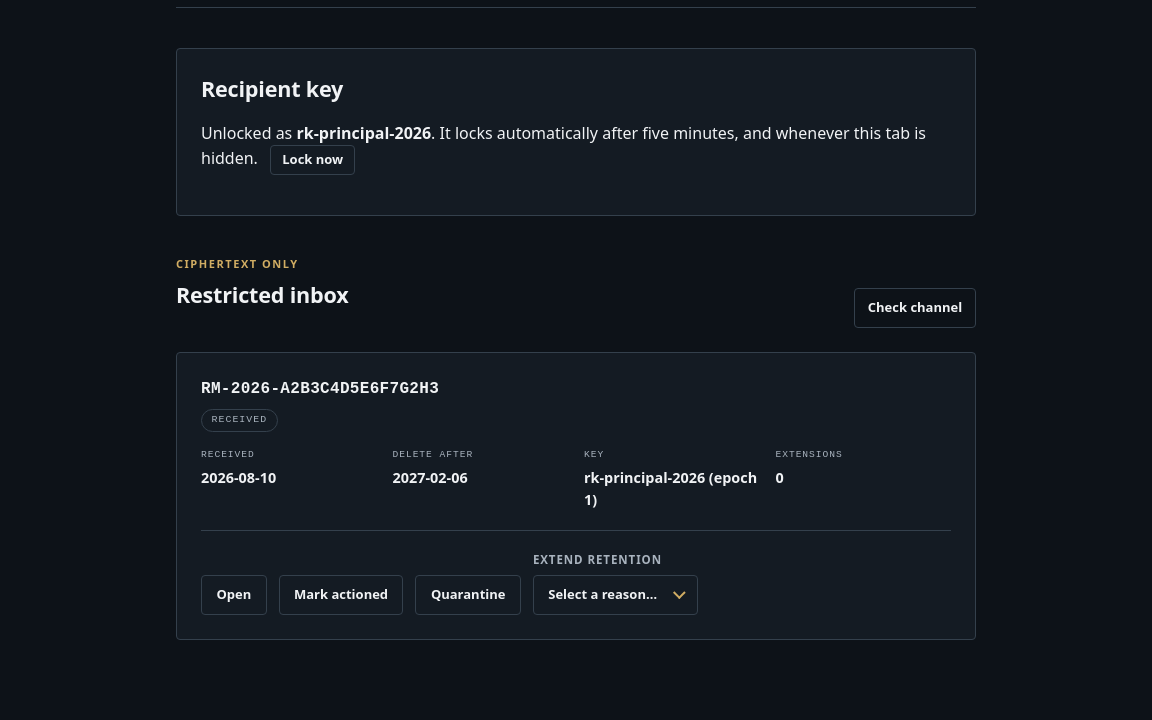
Test: RoomWorkspace › reveals plaintext only after unlocking, and never sends it back
(page scrolled)
Check: the heading "RM-2026-A2B3C4D5E6F7G2H3" is shown, box [201,380,439,398]
Click the button "Open".
click(234, 595)  # box [201,575,267,615]
(page scrolled)
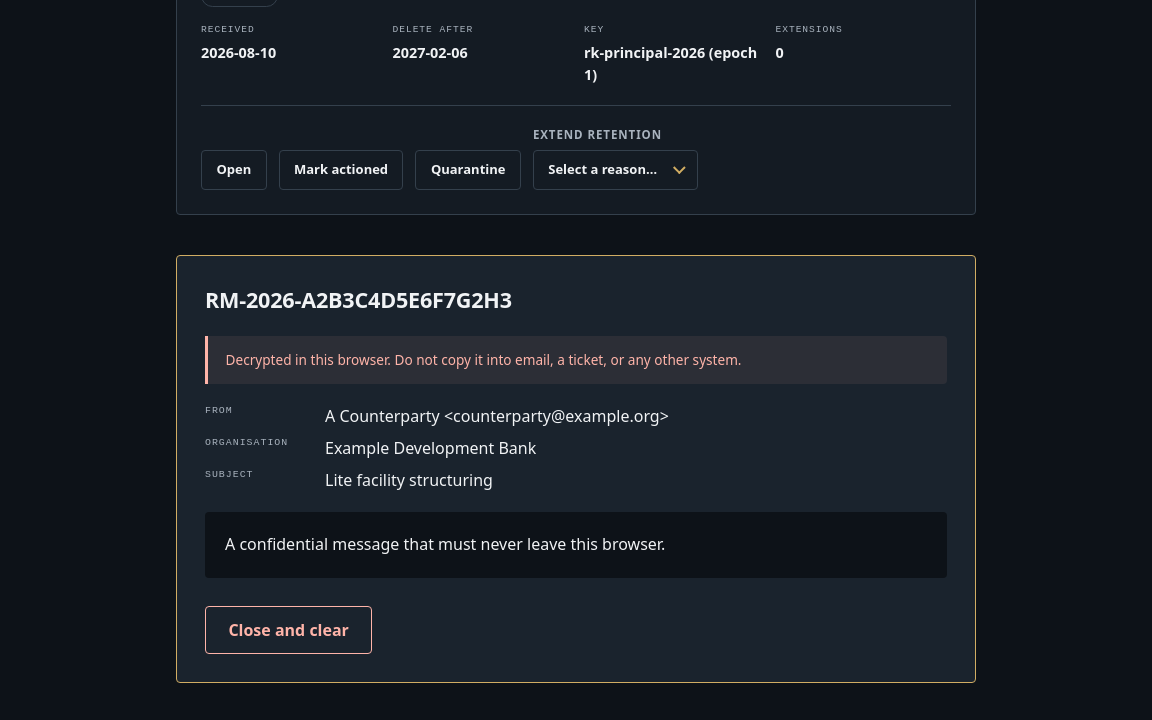
Check: the text "A confidential message that must never leave this browser." is shown, box [205,512,947,578]
Check: the text "Do not copy it into email, a ticket" is shown, box [226,350,742,369]
